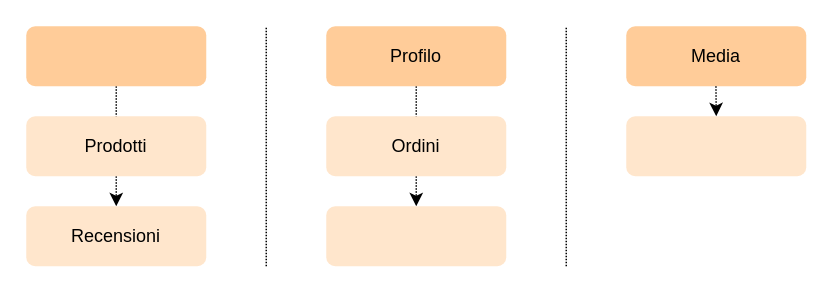
Some shapes in this 831 by 294 pixel diagram are drawn without their labels. The shapes that lost their labels are listed below. From the top down, each one's centre as x and y in pixels, then its label:
At pixel 116 56: "Catalogo".
At pixel 716 146: "Foto".
At pixel 416 236: "Carrello".
